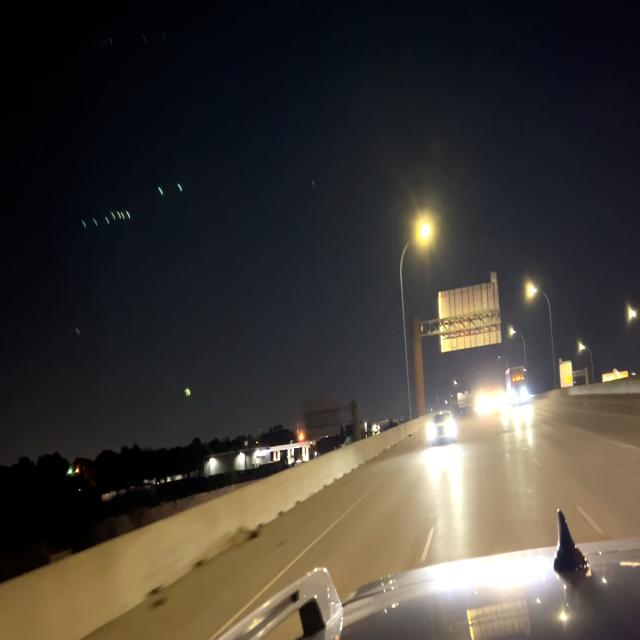back-of-sign: (437, 273, 502, 357), (304, 395, 343, 438)
